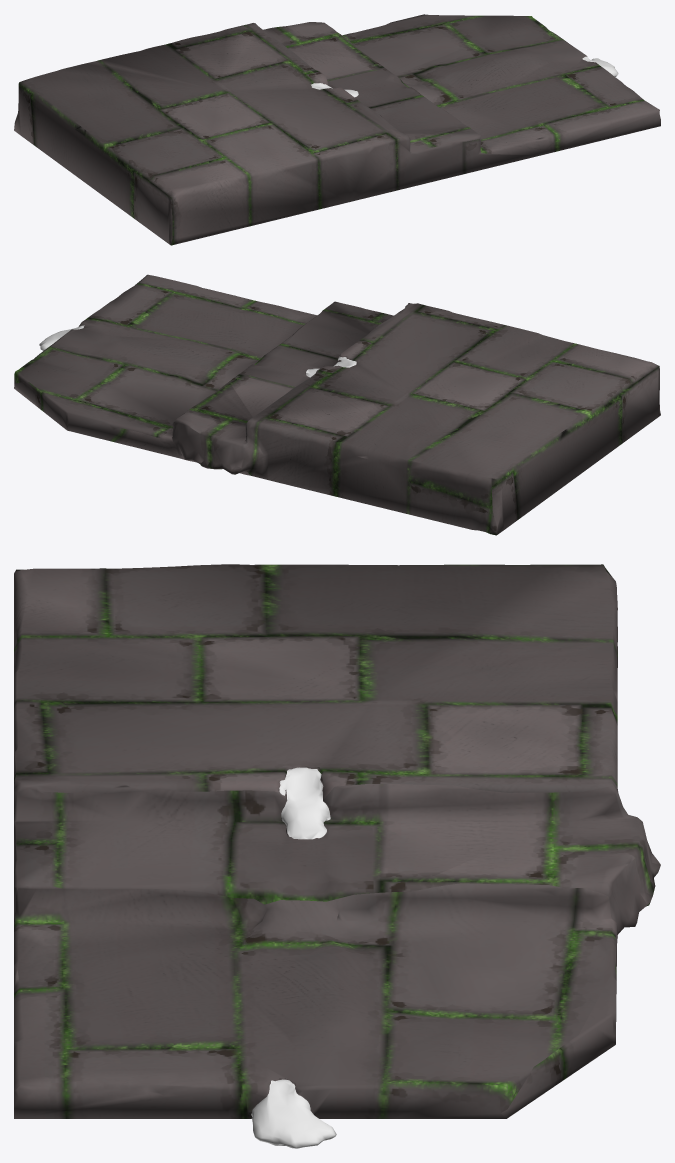
Rendered from dodai_low.fbx.
3 renders of one model, top to bottom at view 1: azimuth 30°, elevation 25°; view 2: azimuth 150°, elevation 25°; view 3: azimuth 270°, elevation 25°, orthographic. The views are drawn at different scales.
Parts seen in each view (by area): view 1: Dodai_low; view 2: Dodai_low; view 3: Dodai_low.
Part boxes in pixels (bbox=[...]): Dodai_low: bbox=[14, 14, 660, 245]; Dodai_low: bbox=[14, 274, 660, 535]; Dodai_low: bbox=[14, 564, 660, 1148].
Bounding box in the file's own units: 65.12 × 6.82 × 36.78.
Materials: 2 (1 with a texture image).
